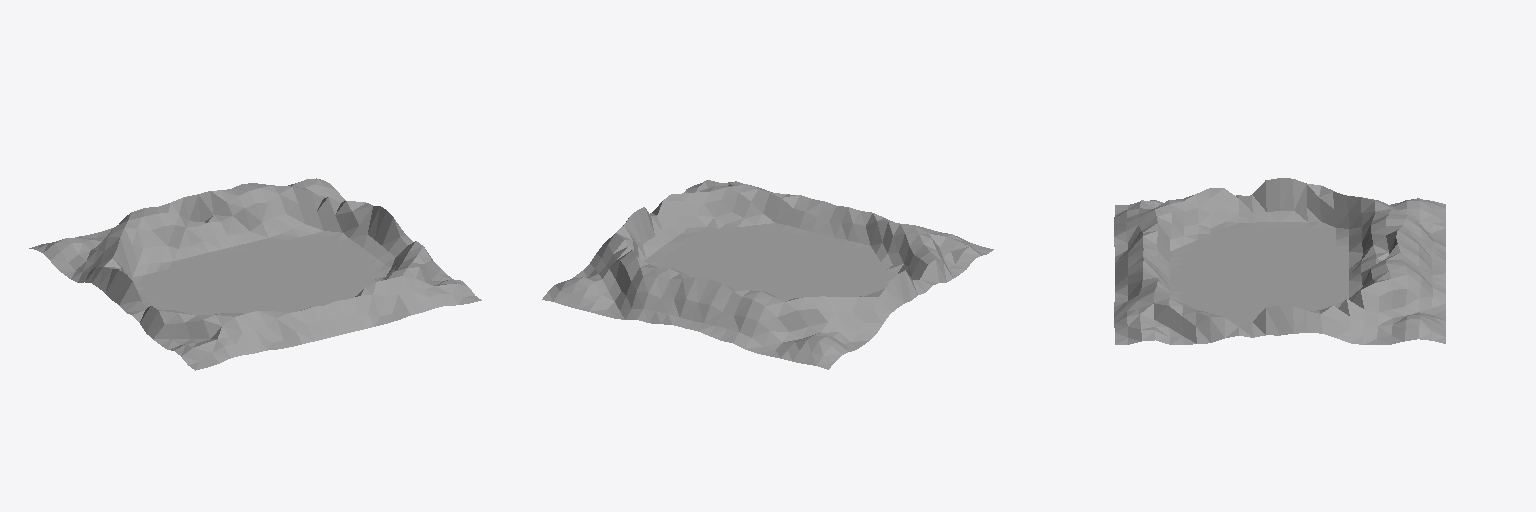
File: fondo.obj
3 renders of one model, left to right at view 1: azimuth 30°, elevation 25°; view 2: azimuth 150°, elevation 25°; view 3: azimuth 270°, elevation 25°, orthographic.
Parts seen in each view (by area): view 1: Plane; view 2: Plane; view 3: Plane.
Part boxes in pixels (bbox=[...]): Plane: bbox=[29, 178, 481, 370]; Plane: bbox=[542, 180, 993, 369]; Plane: bbox=[1114, 178, 1445, 344].
Bounding box in the file's own units: 75.46 × 9.69 × 75.2.